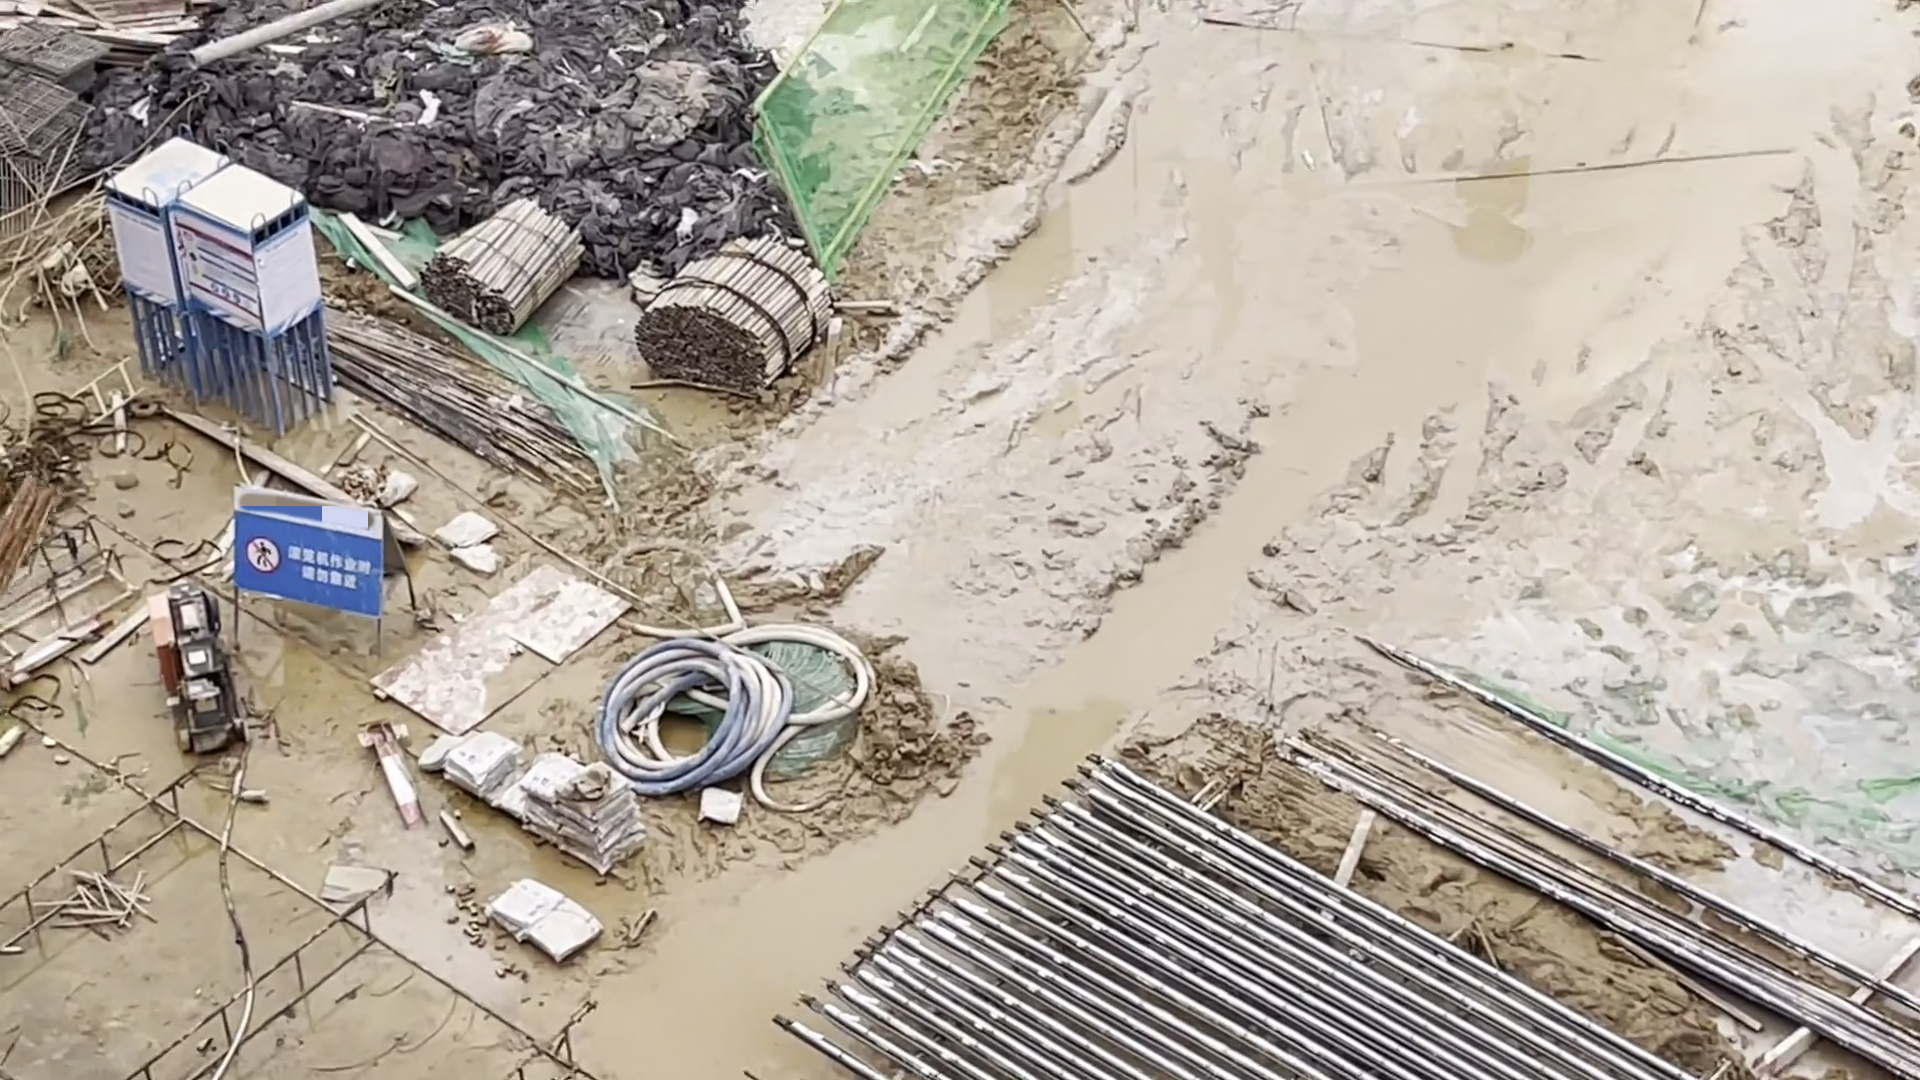slogan: (233, 522, 381, 609)
wood: (626, 232, 833, 389), (419, 196, 582, 330)
